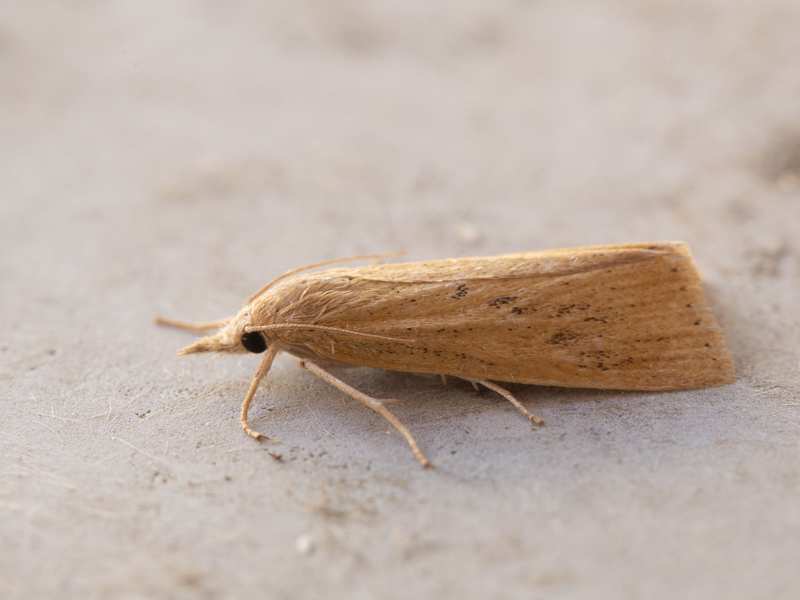Crambidae: (149, 228, 742, 470)
